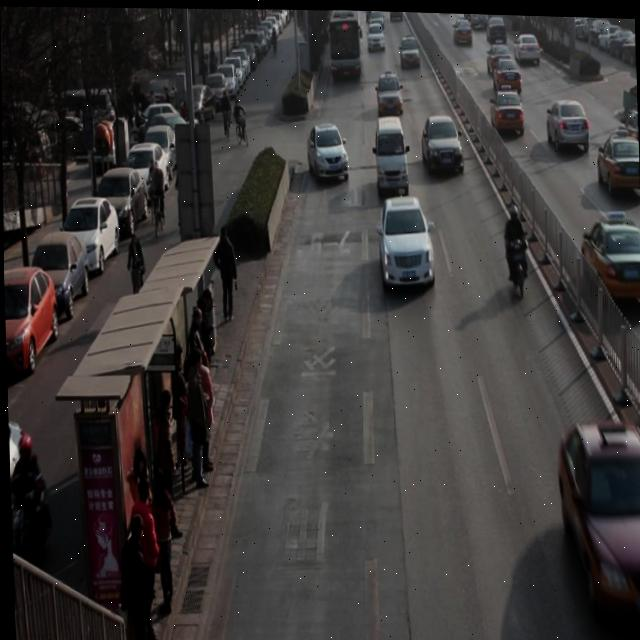car: (557, 418, 640, 604), (581, 210, 640, 304), (378, 194, 434, 288), (596, 125, 640, 194), (420, 113, 464, 176), (306, 122, 349, 182), (545, 96, 588, 151), (489, 82, 523, 133), (375, 72, 403, 114), (513, 28, 541, 63), (492, 53, 520, 88), (484, 38, 511, 73), (398, 33, 419, 67), (454, 13, 474, 45), (485, 12, 506, 42), (367, 21, 384, 49)
truck: (376, 114, 408, 191)
van: (326, 8, 359, 77)
